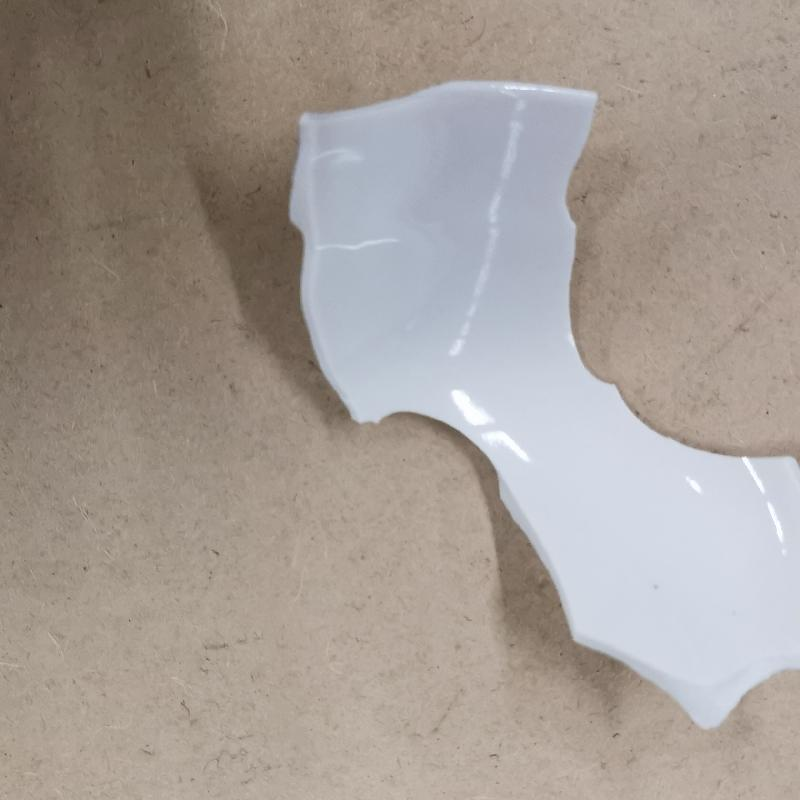ceram: (283, 77, 799, 735)
